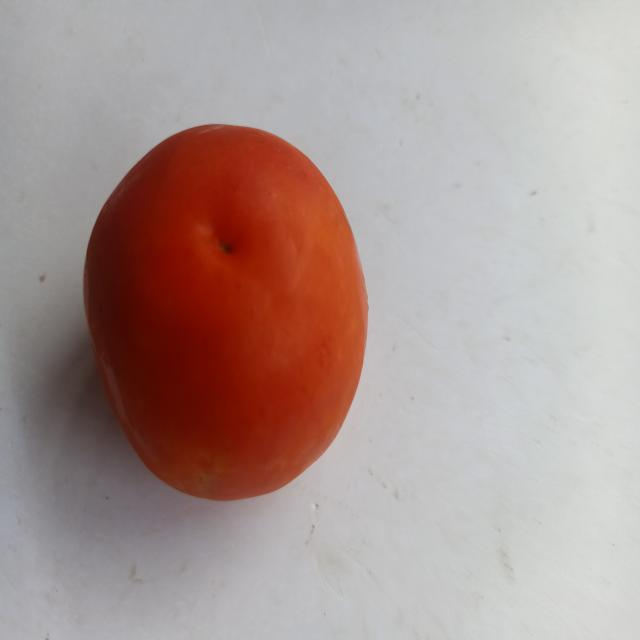Tomato: (68, 92, 390, 516)
